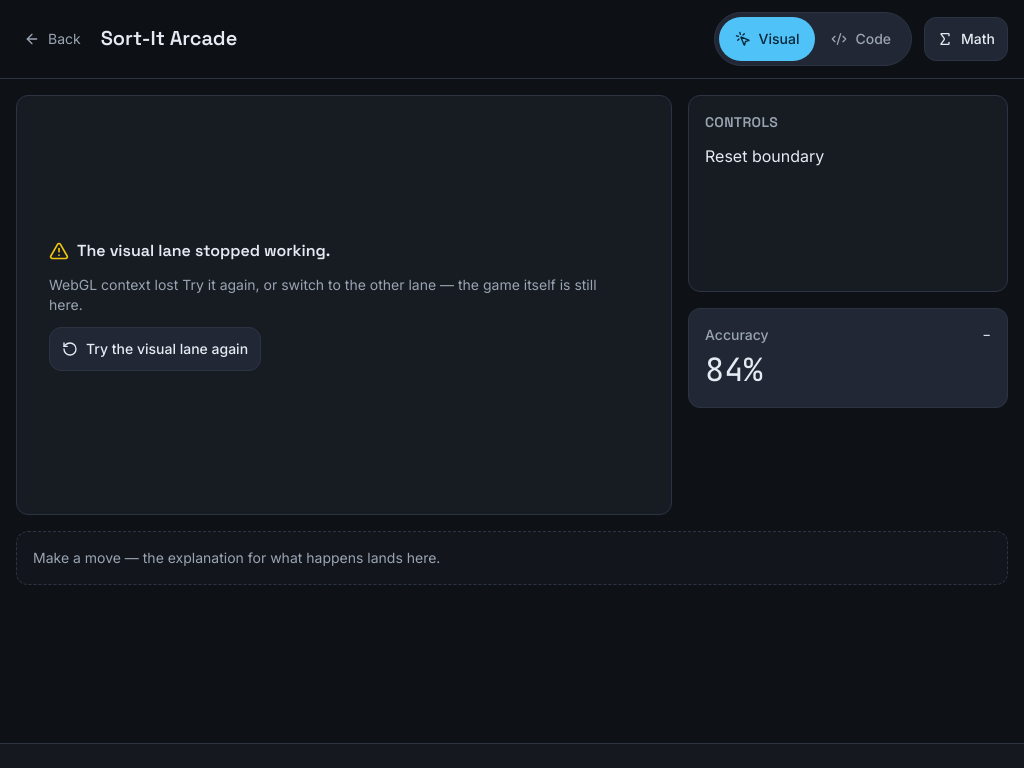
<GameShell> a crashing lane › keeps the shell (title, metric, controls) up and offers a way back
Expected: the text "The visual lane stopped working." is shown, left=49, top=239, right=330, bottom=263
Expected: the text "WebGL context lost" is shown, left=49, top=276, right=178, bottom=293
What coordinates should you click on to do the following:
click the button "Try the visual lane again"
I would click on:
 (155, 349)
Its box is left=49, top=327, right=261, bottom=371.
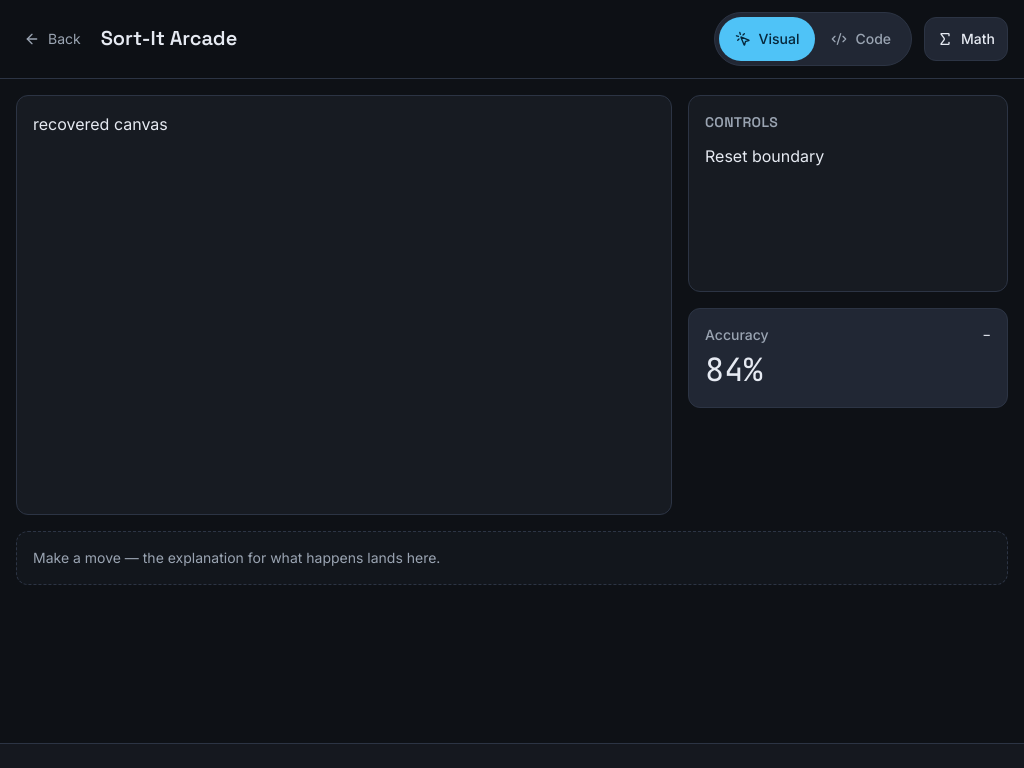
Expected: the text "recovered canvas" is shown, left=33, top=114, right=168, bottom=134
